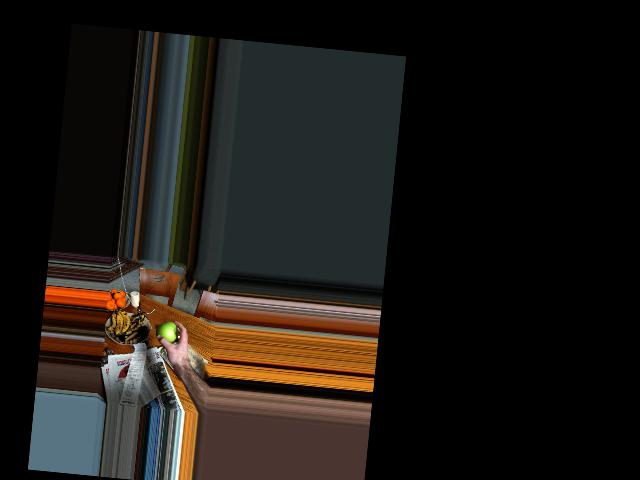apple: (159, 320, 178, 345)
